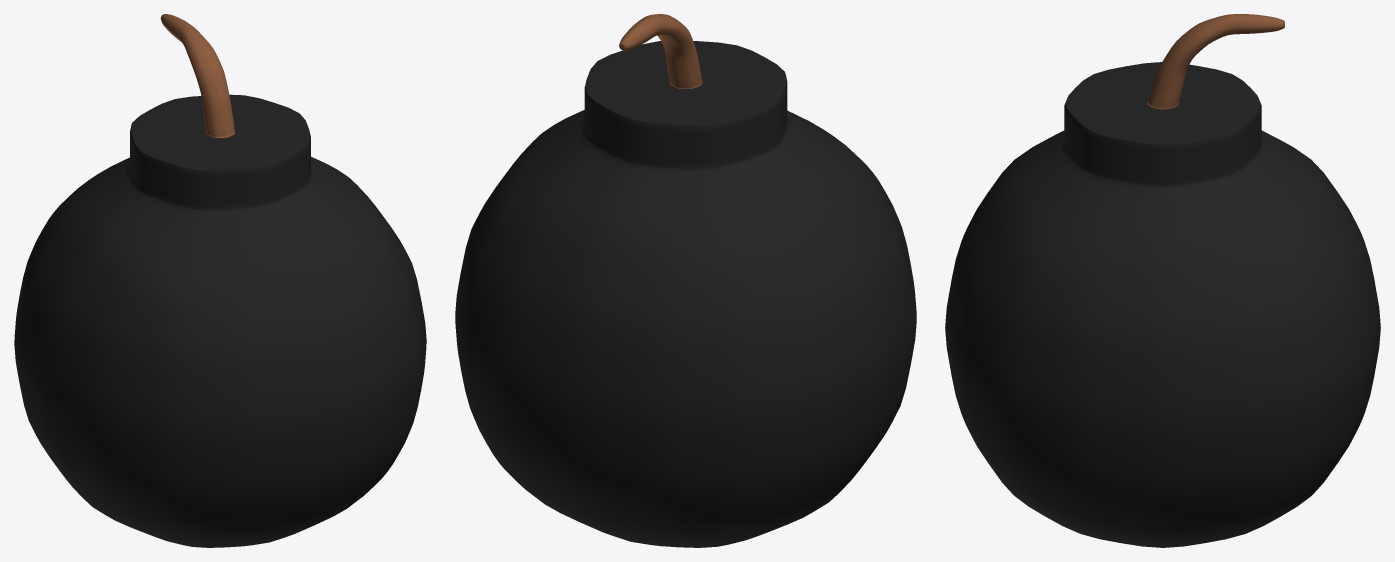
The model's file is Bomb.fbx.
3 renders of one model, left to right at view 1: azimuth 30°, elevation 25°; view 2: azimuth 150°, elevation 25°; view 3: azimuth 270°, elevation 25°, orthographic. The views are drawn at different scales.
Visible parts, largest first — view 1: Bomb; view 2: Bomb; view 3: Bomb.
Boxes of the visible parts, box(x1,y1,x2,y2) form: Bomb: box(14, 14, 426, 547); Bomb: box(455, 14, 916, 547); Bomb: box(945, 14, 1380, 547).
Size of the model in its own units: 82.04 by 106 by 82.04.
